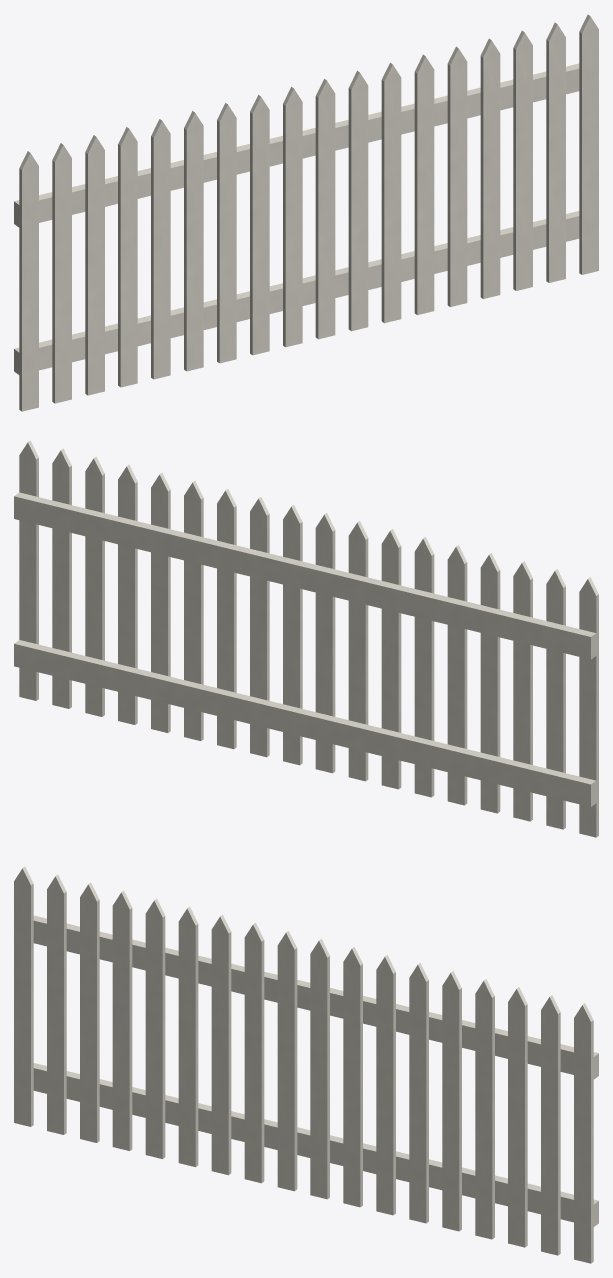
Rendered from fence_picket_panel.gltf.
3 renders of one model, top to bottom at view 1: azimuth 30°, elevation 25°; view 2: azimuth 150°, elevation 25°; view 3: azimuth 330°, elevation 25°, orthographic.
Visible parts, largest first — view 1: fence_picket_panel; view 2: fence_picket_panel; view 3: fence_picket_panel.
Boxes of the visible parts, x1,y1,x2,y2 form: fence_picket_panel: [14, 14, 598, 411]; fence_picket_panel: [14, 440, 598, 837]; fence_picket_panel: [14, 866, 598, 1263].
Bounding box in the file's own units: 2.38 × 1.01 × 0.057.
1 material, 1 textured.
